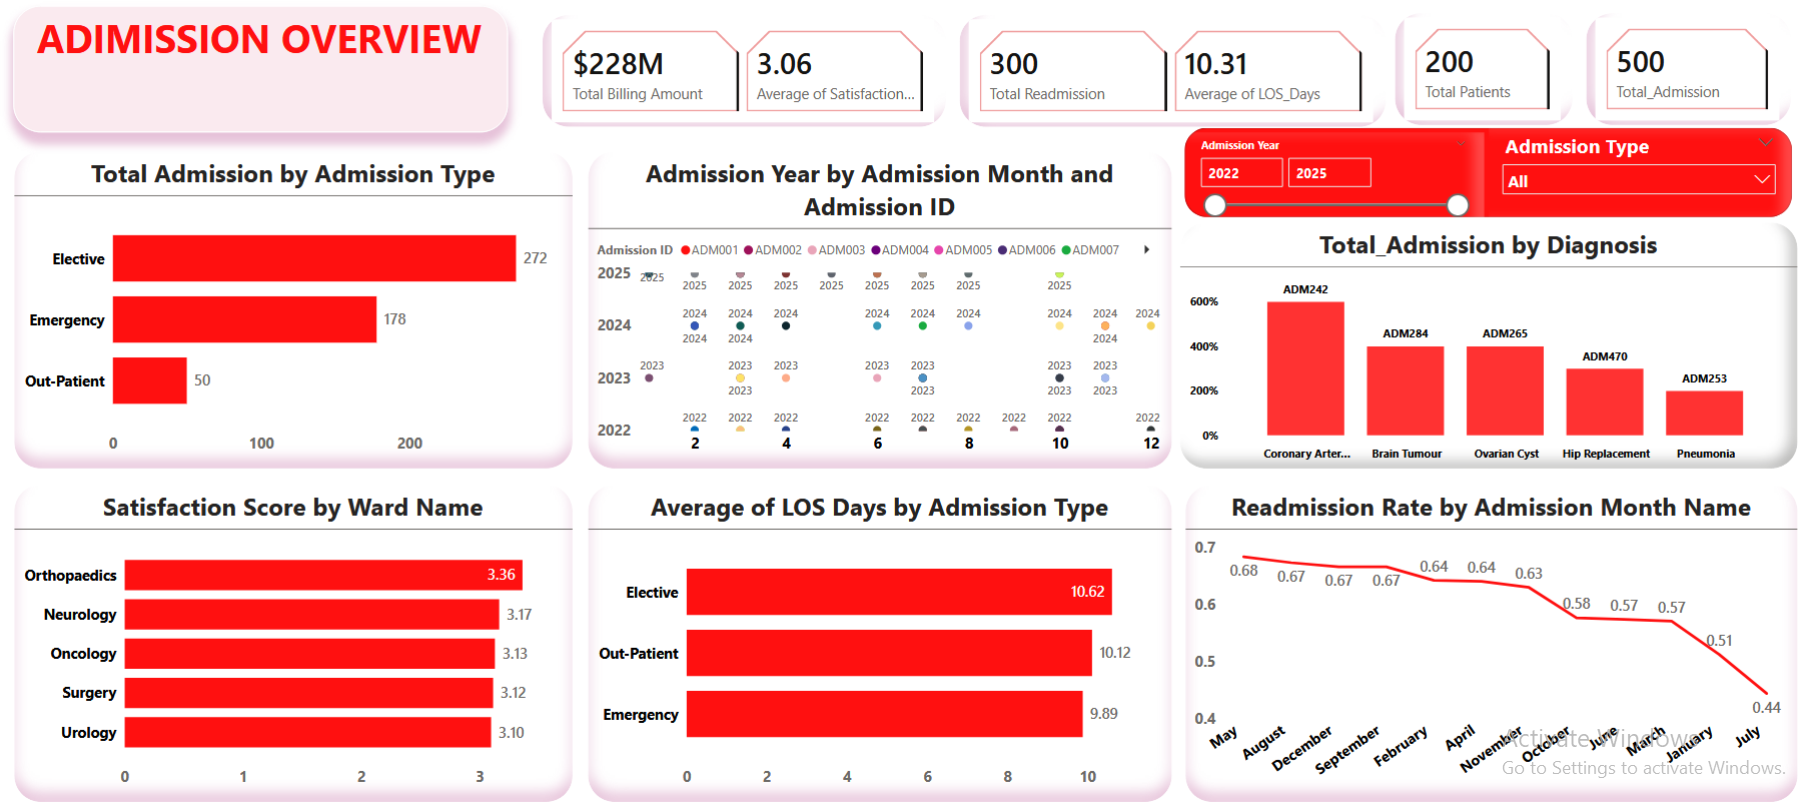

The page's visual inventory and layout, read from the dashboard file:
{"tool":"powerbi","page":{"name":"Page 1","canvas":[2000,895],"ordinal":0},"visuals":[{"type":"shape","box":[1303.3,146.7,666.7,98.3],"z":0},{"type":"cardVisual","fields":{"Data":["_measure.Total_Admission"]},"box":[1743.3,20,226.7,125],"z":1000},{"type":"cardVisual","fields":{"Data":["_measure.Total Billing Amount","Avg(Admissions.Satisfaction_Score)"]},"box":[596.7,21.7,445,125],"z":2000},{"type":"clusteredBarChart","fields":{"Category":["Admissions.Admission_Type"],"Y":["_measure.Total_Admission"]},"box":[16.7,171.7,615,350],"z":3000},{"type":"cardVisual","fields":{"Data":["_measure.Total Readmission","Avg(Admissions.LOS_Days)"]},"box":[1055,21.7,470,125],"z":4000},{"type":"lineChart","fields":{"Y":["Sum(Admissions.Admission_Year)"],"Category":["Admissions.Admission_Month"],"Series":["Admissions.Admission_ID"]},"box":[646.7,171.7,643.3,350],"z":5000},{"type":"clusteredBarChart","fields":{"Category":["Admissions.Admission_Type"],"Y":["Avg(Admissions.LOS_Days)"]},"box":[646.7,538.3,643.3,350],"z":6000},{"type":"columnChart","fields":{"Category":["Admissions.Diagnosis"],"Y":["_measure.Total_Admission"]},"box":[1296.7,250,680,271.7],"z":7000},{"type":"lineChart","fields":{"Category":["Admissions.Admission_Month_Name"],"Y":["_measure.Readmission Rate"]},"box":[1303.3,538.3,673.3,350],"z":8000},{"type":"barChart","fields":{"Category":["Wards.Ward_Name"],"Y":["Avg(Admissions.Satisfaction_Score)"]},"box":[16.7,538.3,615,350],"z":9000},{"type":"slicer","fields":{"Values":["Admissions.Admission_Year"]},"box":[1303.3,151.7,328.3,103.3],"z":10000},{"type":"slicer","fields":{"Values":["Admissions.Admission_Type"]},"box":[1636.7,146.7,333.3,103.3],"z":11000},{"type":"textbox","box":[16.7,13.3,543.3,138.3],"z":12000},{"type":"cardVisual","fields":{"Data":["_measure.Total Patients"]},"box":[1533.3,20,196.7,125],"z":13000}]}

Visuals, with their boxes in screenshot pixels (x1, y1, x2, y2), scaled from the page's 2000x895 canvas onto the 1806x808 screenshot:
shape: 1177/132/1779/221
cardVisual - _measure.Total_Admission: 1574/18/1779/131
cardVisual - _measure.Total Billing Amount x Avg(Admissions.Satisfaction_Score): 539/20/941/132
clusteredBarChart - Admissions.Admission_Type x _measure.Total_Admission: 15/155/570/471
cardVisual - _measure.Total Readmission x Avg(Admissions.LOS_Days): 953/20/1377/132
lineChart - Sum(Admissions.Admission_Year) x Admissions.Admission_Month: 584/155/1165/471
clusteredBarChart - Admissions.Admission_Type x Avg(Admissions.LOS_Days): 584/486/1165/802
columnChart - Admissions.Diagnosis x _measure.Total_Admission: 1171/226/1785/471
lineChart - Admissions.Admission_Month_Name x _measure.Readmission Rate: 1177/486/1785/802
barChart - Wards.Ward_Name x Avg(Admissions.Satisfaction_Score): 15/486/570/802
slicer - Admissions.Admission_Year: 1177/137/1473/230
slicer - Admissions.Admission_Type: 1478/132/1779/226
textbox: 15/12/506/137
cardVisual - _measure.Total Patients: 1385/18/1562/131
